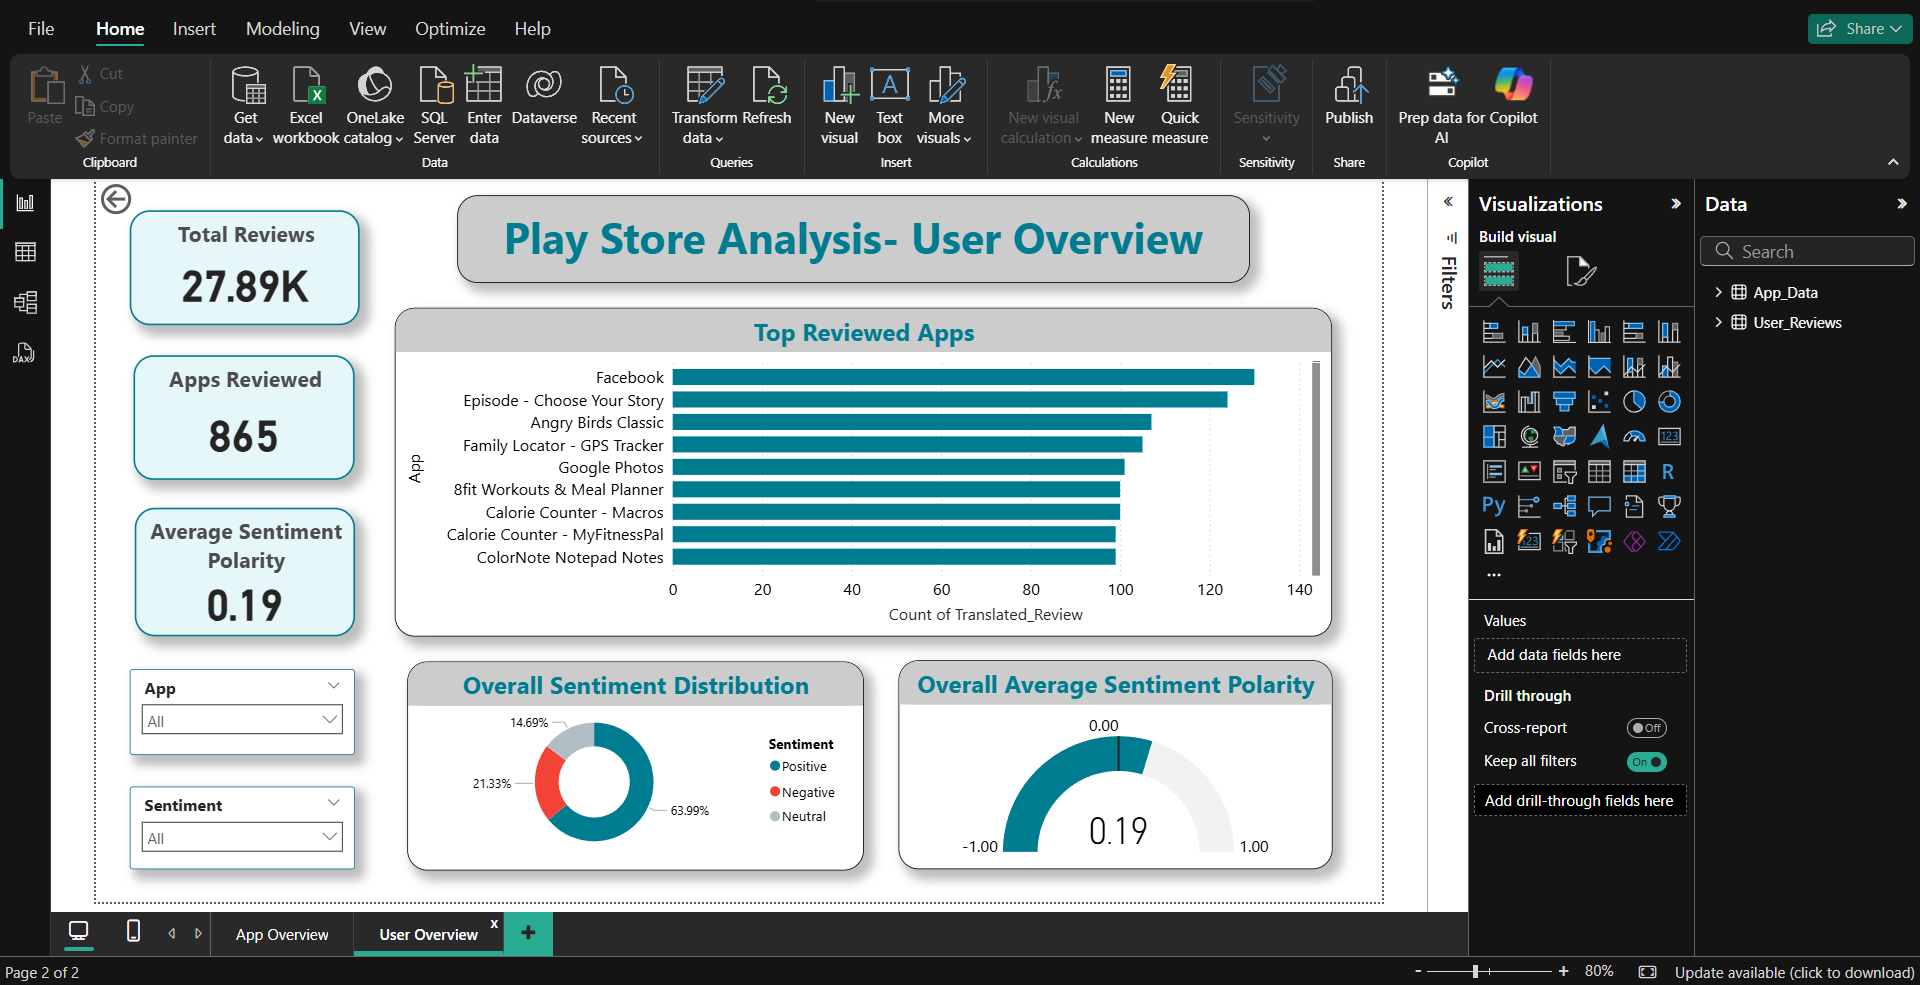

This screenshot's page, from the dashboard's own definition file:
{"tool":"powerbi","page":{"name":"User Overview","canvas":[1280,720],"ordinal":1},"visuals":[{"type":"card","title":"Total Reviews","fields":{"Values":["Count(new_cleaned_user_reviews.Translated_Review)"]},"box":[33.6,31.1,228.9,114.4],"z":0},{"type":"card","title":"Apps Reviewed","fields":{"Values":["Count(new_cleaned_user_reviews.App)"]},"box":[37.3,175.4,220.2,124.4],"z":1000},{"type":"card","title":"Average Sentiment Polarity","fields":{"Values":["Avg(new_cleaned_user_reviews.Sentiment_Polarity)"]},"box":[38.6,327.2,218.9,128.1],"z":2000},{"type":"textbox","box":[359.5,16.2,788.7,87.1],"z":3000},{"type":"donutChart","title":"Overall Sentiment Distribution","fields":{"Category":["new_cleaned_user_reviews.Sentiment"],"Y":["CountNonNull(new_cleaned_user_reviews.Translated_Review)"]},"box":[309.7,480.2,454,207.7],"z":4000},{"type":"clusteredBarChart","title":"Top Reviewed Apps","fields":{"Category":["new_cleaned_user_reviews.App"],"Y":["CountNonNull(new_cleaned_user_reviews.Translated_Review)"]},"box":[297.3,128.1,933,327.2],"z":5000},{"type":"actionButton","box":[0,0,100,40],"z":6000},{"type":"gauge","title":"Overall Average Sentiment Polarity","fields":{"Y":["Avg(new_cleaned_user_reviews.Sentiment_Polarity)"]},"box":[798.6,478.9,431.7,207.7],"z":8000},{"type":"slicer","fields":{"Values":["new_cleaned_user_reviews.App"]},"box":[33.6,487.6,223.9,85.8],"z":9000},{"type":"slicer","fields":{"Values":["new_cleaned_user_reviews.Sentiment"]},"box":[33.6,604.6,223.9,82.1],"z":10000}]}

Visuals, with their boxes on the page's 1280x720 design canvas (x1, y1, x2, y2). These are canvas units, not pixel positions in the 1920x985 screenshot, which may show the page scaled, cropped or inside an application window:
"Total Reviews" card: x1=34 y1=31 x2=262 y2=146
"Apps Reviewed" card: x1=37 y1=175 x2=258 y2=300
"Average Sentiment Polarity" card: x1=39 y1=327 x2=258 y2=455
textbox: x1=360 y1=16 x2=1148 y2=103
"Overall Sentiment Distribution" donutChart: x1=310 y1=480 x2=764 y2=688
"Top Reviewed Apps" clusteredBarChart: x1=297 y1=128 x2=1230 y2=455
actionButton: x1=0 y1=0 x2=100 y2=40
"Overall Average Sentiment Polarity" gauge: x1=799 y1=479 x2=1230 y2=687
slicer - new_cleaned_user_reviews.App: x1=34 y1=488 x2=258 y2=573
slicer - new_cleaned_user_reviews.Sentiment: x1=34 y1=605 x2=258 y2=687
